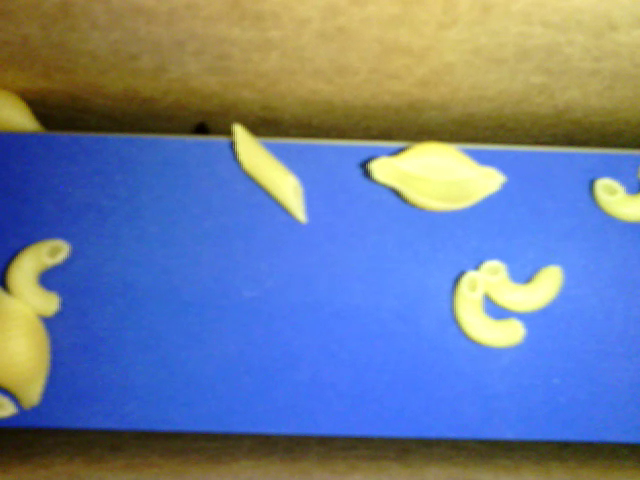elbow: (453, 268, 525, 350), (7, 238, 70, 317), (479, 259, 563, 312), (593, 178, 639, 223)
penne: (231, 121, 307, 225)
shell: (366, 139, 505, 215), (1, 285, 53, 412)
